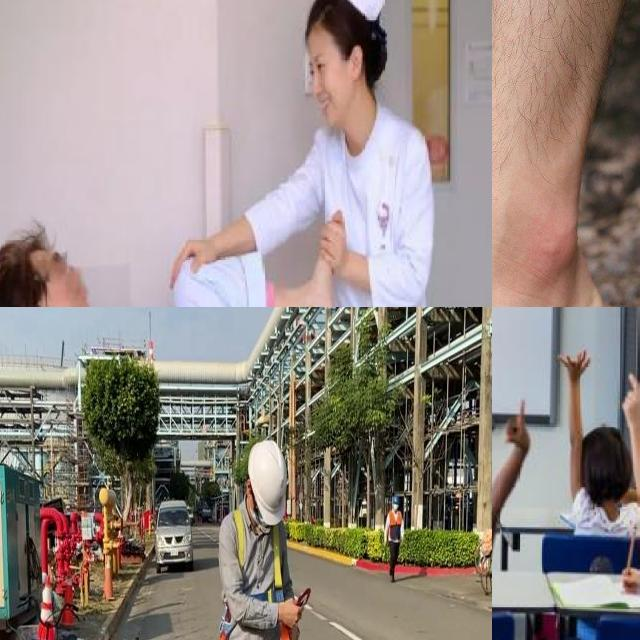No_Ear-Protection: (344, 42, 366, 82)
face_nomask: (306, 27, 354, 126)
hand_noglove: (167, 236, 215, 285), (318, 218, 345, 274), (504, 400, 531, 452), (554, 349, 593, 380), (622, 372, 640, 427), (620, 567, 640, 593)
head_nohelmet: (578, 425, 634, 509), (0, 223, 51, 307), (296, 0, 368, 45)
person: (252, 0, 458, 307), (0, 216, 492, 307)
